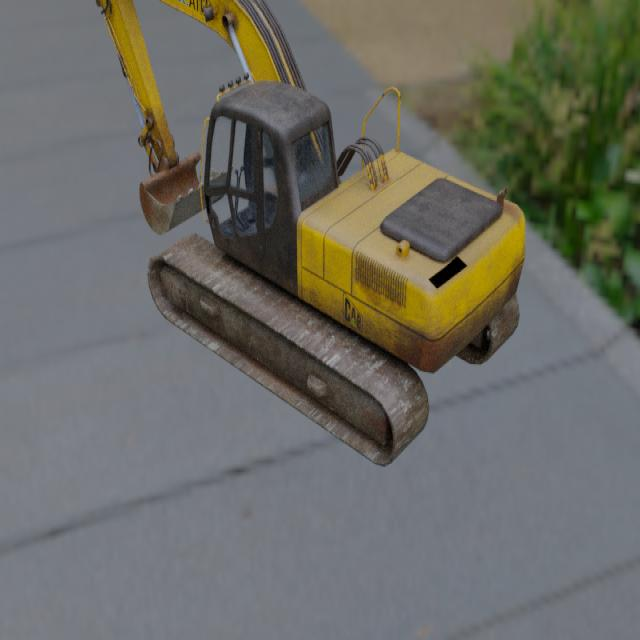excavator: (95, 0, 525, 468)
